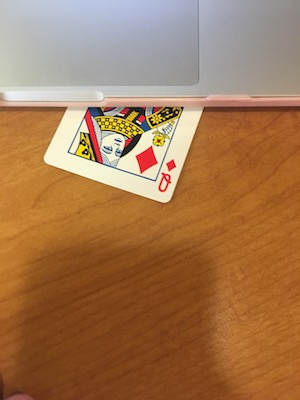QueenOfDiamonds: (40, 81, 209, 207)
